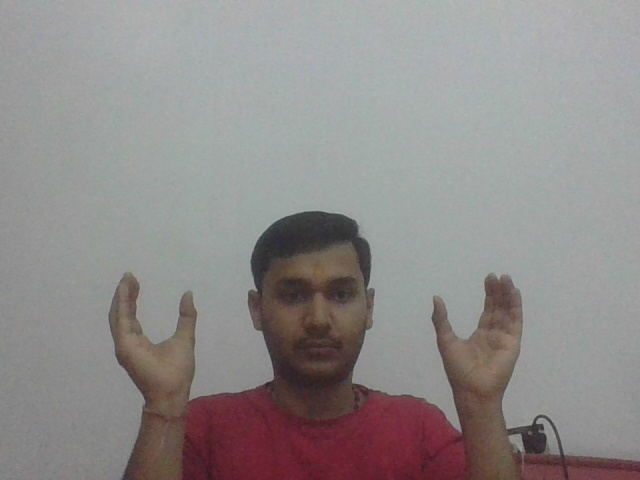U: (427, 264, 531, 397), (97, 265, 198, 394)
